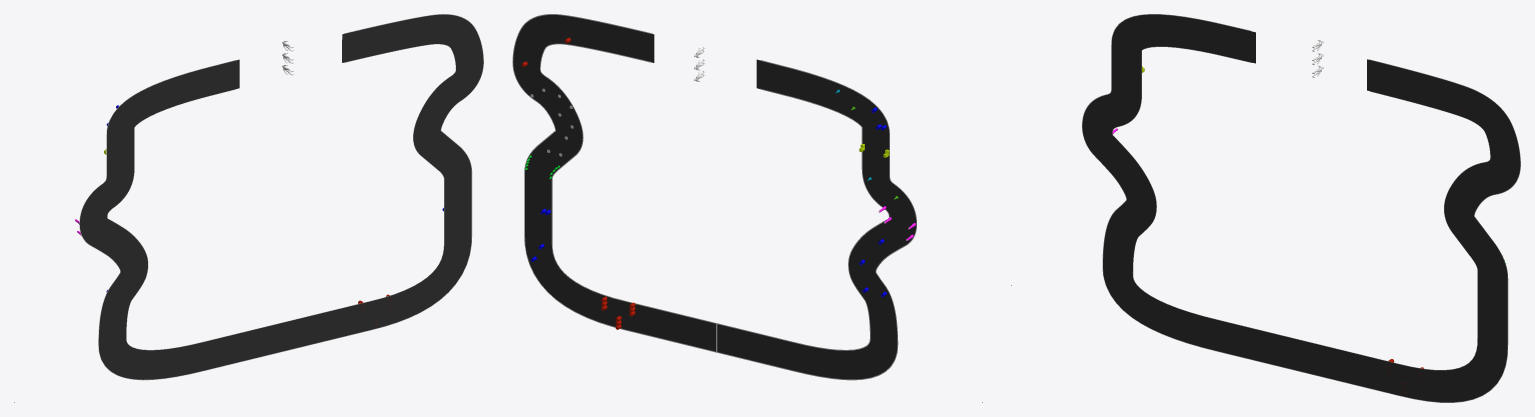
File: jaiblender.dae
3 renders of one model, left to right at view 1: azimuth 30°, elevation 25°; view 2: azimuth 150°, elevation 25°; view 3: azimuth 330°, elevation 25°, orthographic. The views are drawn at different scales.
Parts seen in each view (by area): view 1: ROAD, Plane.001, Plane.002; view 2: ROAD, Plane.001, Plane.002; view 3: ROAD, Plane.001, Plane.002.
Boxes of the visible parts, x1,y1,x2,y2 form: ROAD: [79, 14, 483, 379]; Plane.001: [79, 14, 483, 380]; Plane.002: [107, 44, 455, 350]; ROAD: [513, 15, 916, 379]; Plane.001: [512, 14, 916, 380]; Plane.002: [540, 43, 889, 350]; ROAD: [1082, 14, 1520, 402]; Plane.001: [1082, 14, 1520, 402]; Plane.002: [1112, 46, 1490, 370].
Bounding box in the file's own units: 85.54 × 3.06 × 53.07.
